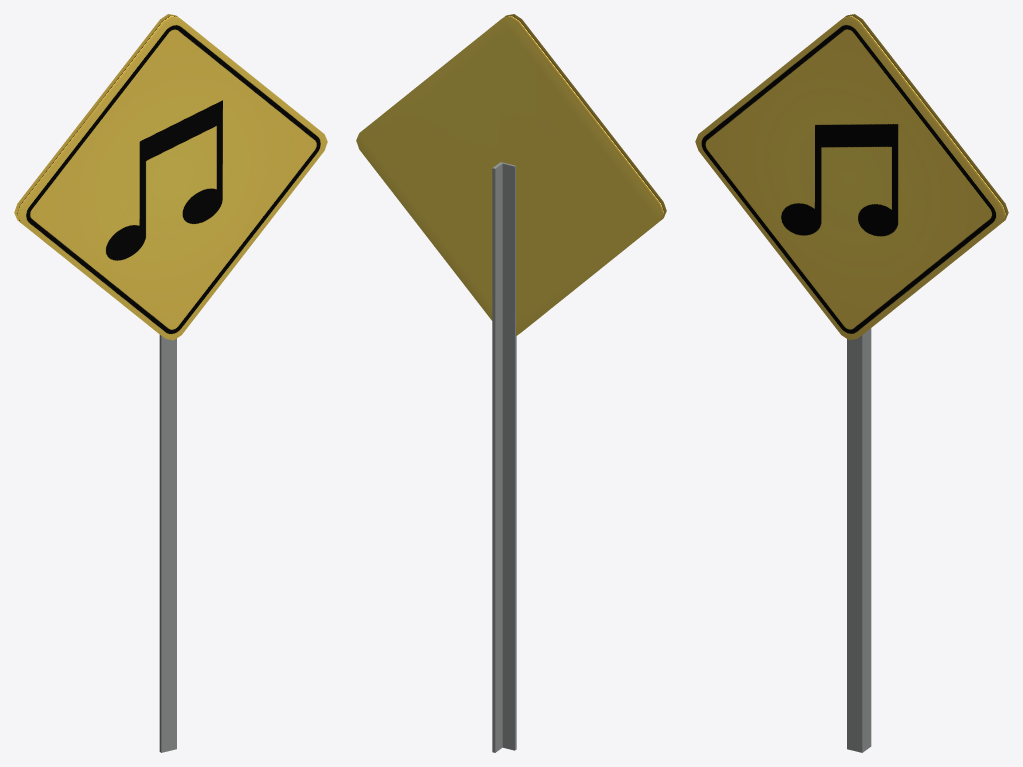
Rendered from road_sign1.fbx.
3 renders of one model, left to right at view 1: azimuth 30°, elevation 25°; view 2: azimuth 150°, elevation 25°; view 3: azimuth 330°, elevation 25°, orthographic.
Parts seen in each view (by area): view 1: Cube, Cube.001; view 2: Cube, Cube.001; view 3: Cube, Cube.001.
Part boxes in pixels (x1,y1,x2,y2): Cube: [14, 14, 327, 340]; Cube.001: [159, 335, 176, 752]; Cube: [356, 14, 666, 335]; Cube.001: [492, 162, 516, 752]; Cube: [695, 14, 1008, 340]; Cube.001: [847, 328, 871, 752].
Bounding box in the file's own units: 274 × 627 × 21.68.
